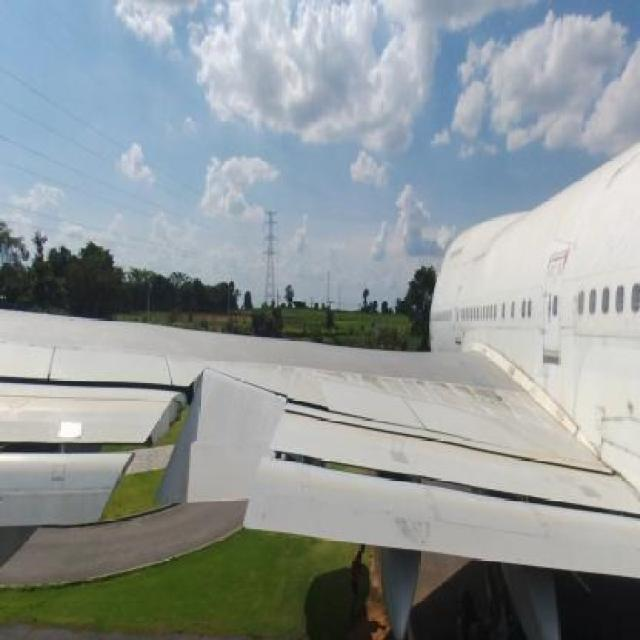Rust: (603, 160, 637, 192)
Scartch: (359, 374, 515, 420), (387, 508, 467, 550), (595, 421, 637, 457)
